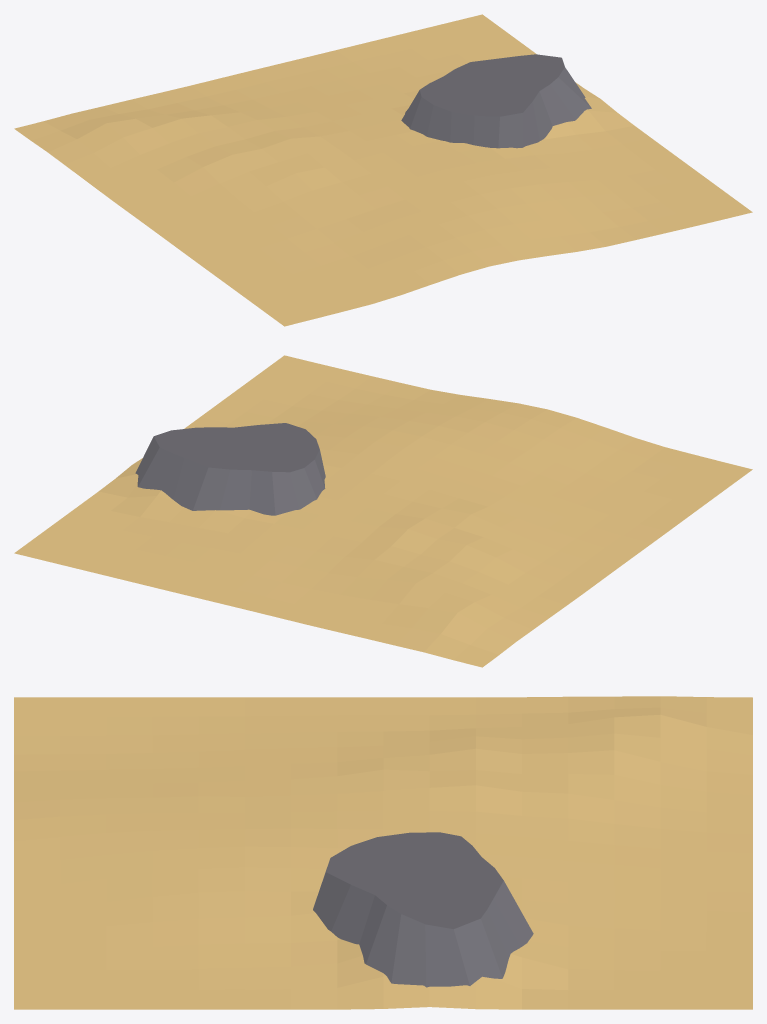
File: spawnislandcol.glb
3 views of the same model, one above another, from view 1: azimuth 30°, elevation 25°; view 2: azimuth 150°, elevation 25°; view 3: azimuth 270°, elevation 25° (orthographic). The views are drawn at different scales.
Parts seen in each view (by area): view 1: Plane.021, Cylinder.038; view 2: Plane.021, Cylinder.038; view 3: Plane.021, Cylinder.038.
Boxes of the visible parts, x1,y1,x2,y2 form: Plane.021: (14, 14, 752, 326); Cylinder.038: (401, 54, 591, 148); Plane.021: (14, 355, 752, 667); Cylinder.038: (135, 423, 325, 515); Plane.021: (14, 696, 752, 1009); Cylinder.038: (313, 832, 533, 987).
Size of the model in its own units: 6.55 by 0.5917 by 6.55.
